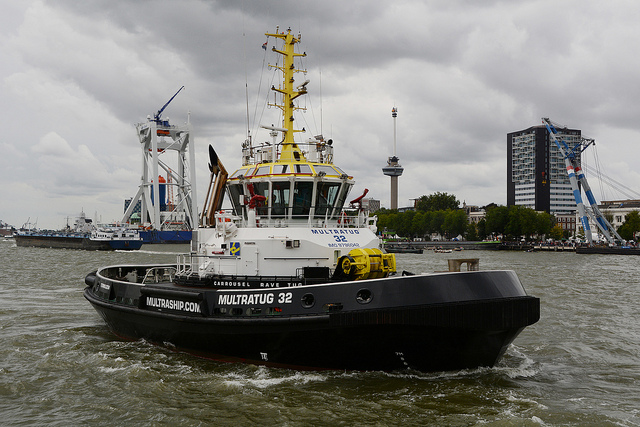boat: (16, 218, 142, 252)
tug_boat: (82, 50, 517, 379)
